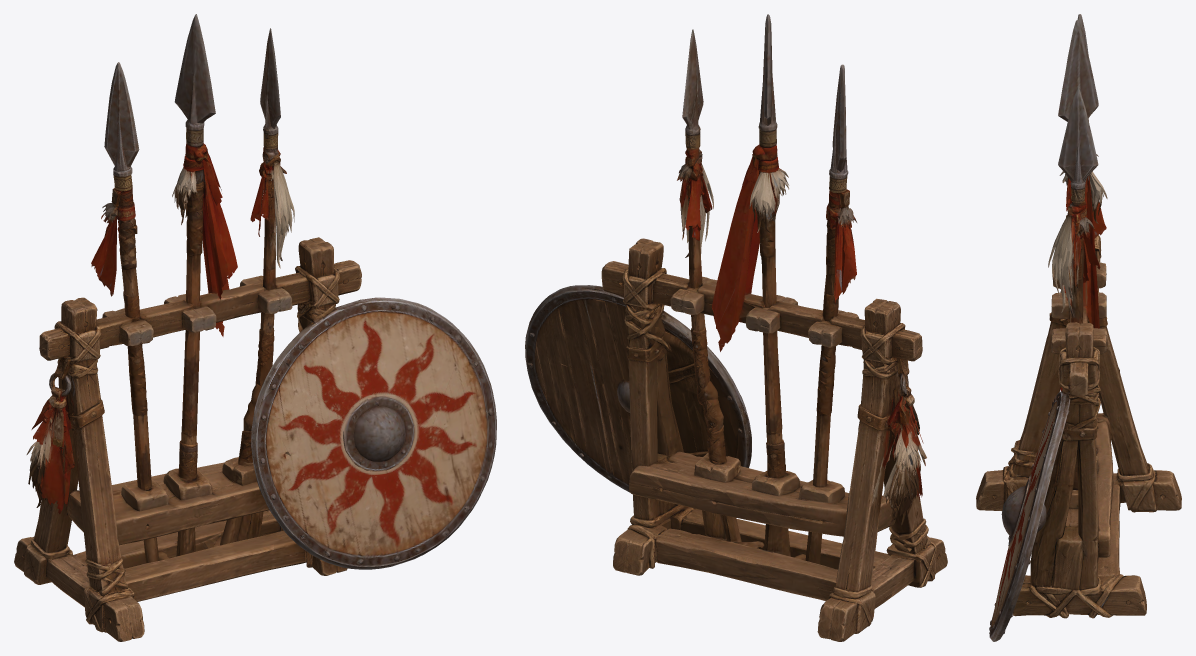
Rendered from weapon_rack.glb.
The picture shows the model from 3 angles, left to right: view 1: azimuth 30°, elevation 25°; view 2: azimuth 150°, elevation 25°; view 3: azimuth 270°, elevation 25°; orthographic projection. The views are drawn at different scales.
Size of the model in its own units: 1.52 by 1.9 by 0.6537.
Materials: 1 (1 with a texture image).
